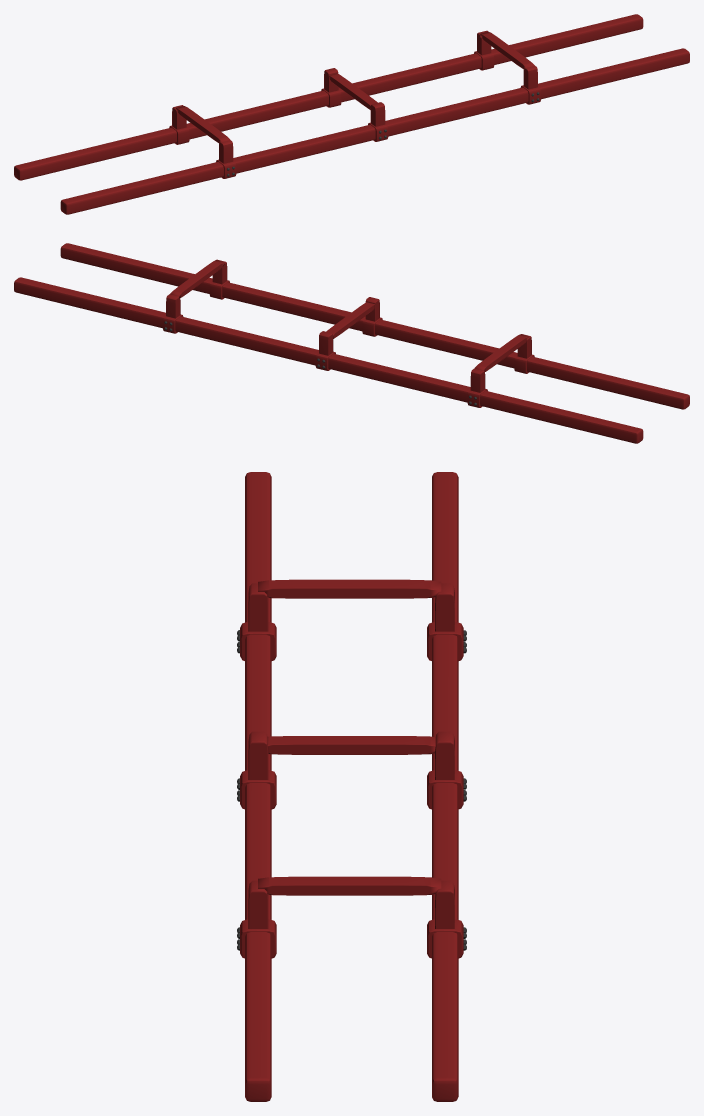
The model's file is bridgesupport_rampage.fbx.
3 renders of one model, top to bottom at view 1: azimuth 30°, elevation 25°; view 2: azimuth 150°, elevation 25°; view 3: azimuth 270°, elevation 25°, orthographic. The views are drawn at different scales.
Parts seen in each view (by area): view 1: pCube71; view 2: pCube71; view 3: pCube71.
Boxes of the visible parts, <box> form: pCube71: <box>14,14,689,214</box>; pCube71: <box>14,243,689,443</box>; pCube71: <box>237,472,466,1101</box>.
Size of the model in its own units: 1.35 by 0.0751 by 0.2158.
